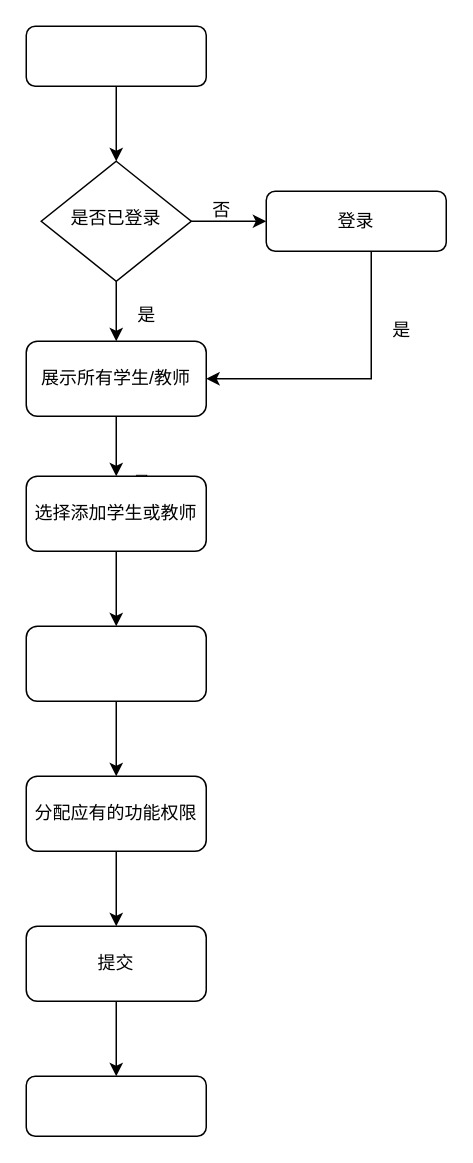
The diagram is 473 pixels wide and 1163 high, and some of its shapes have lost their labels. Here are the shapes that lost their labels. From the top down, the centre of each, then its label:
(x=115, y=55): 开始
(x=115, y=663): 输入该用户相关信息
(x=115, y=1105): 结束
